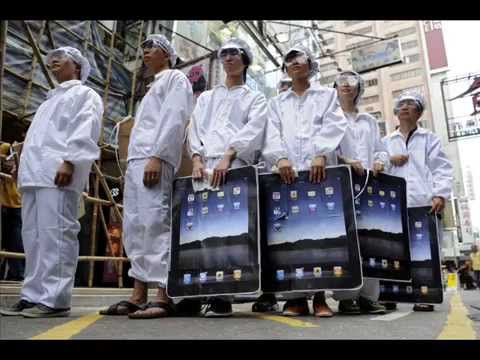noepi: (4, 47, 104, 317), (98, 33, 193, 316), (264, 44, 339, 319), (188, 37, 261, 318), (381, 85, 452, 314), (331, 62, 389, 315)
